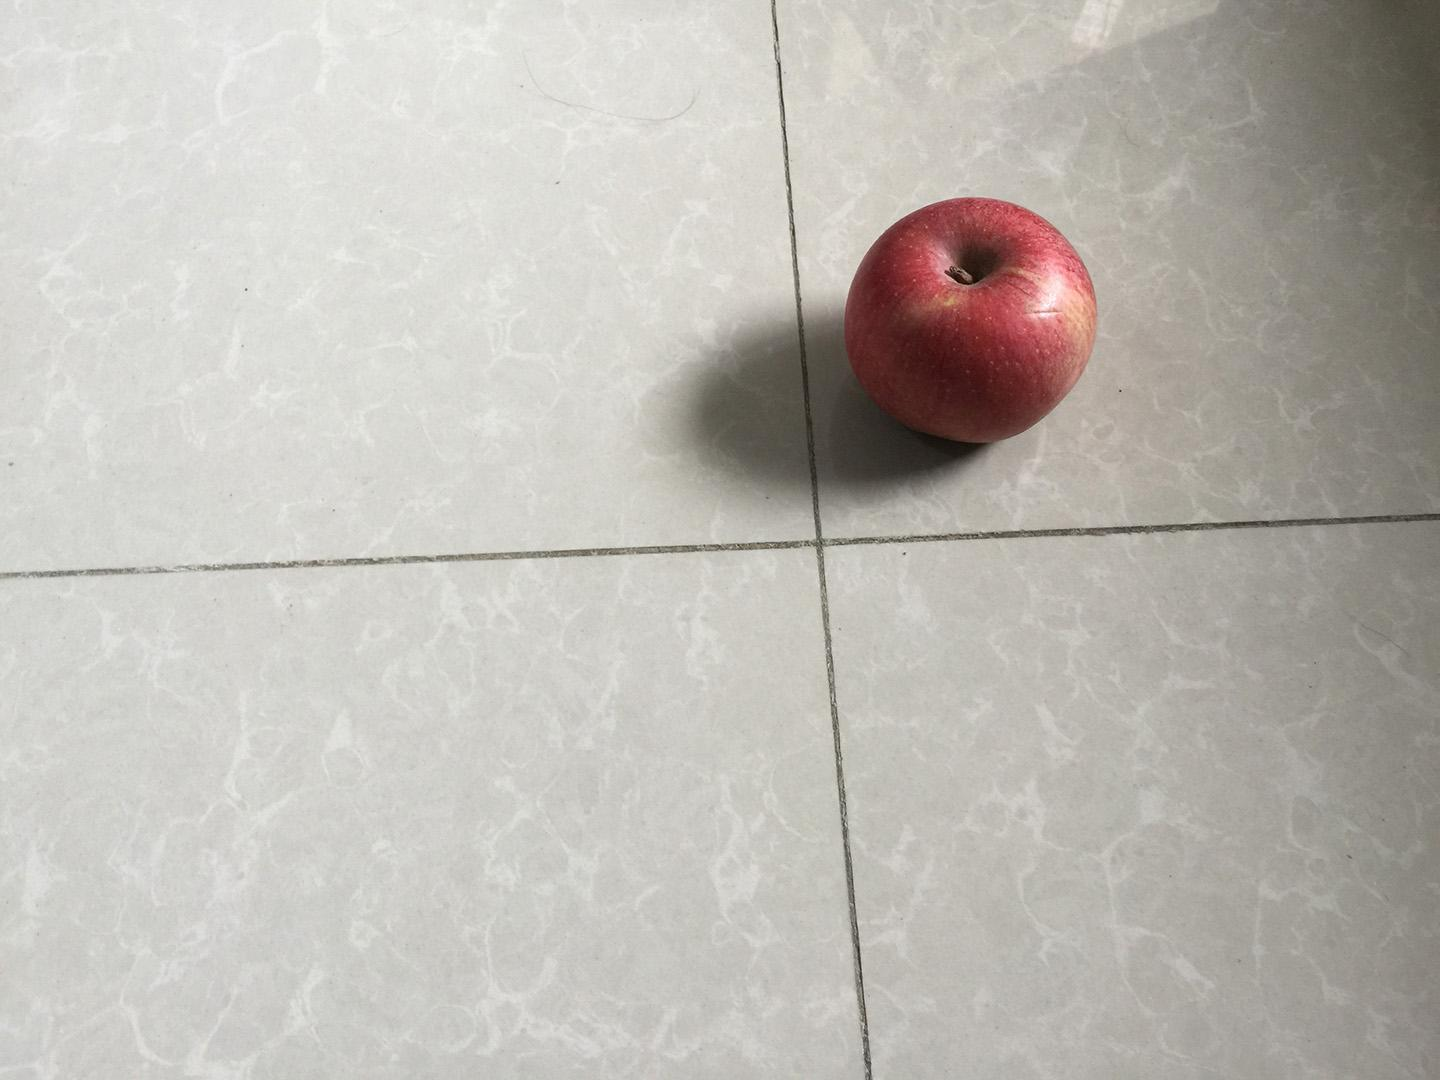apple: (835, 189, 1112, 452)
